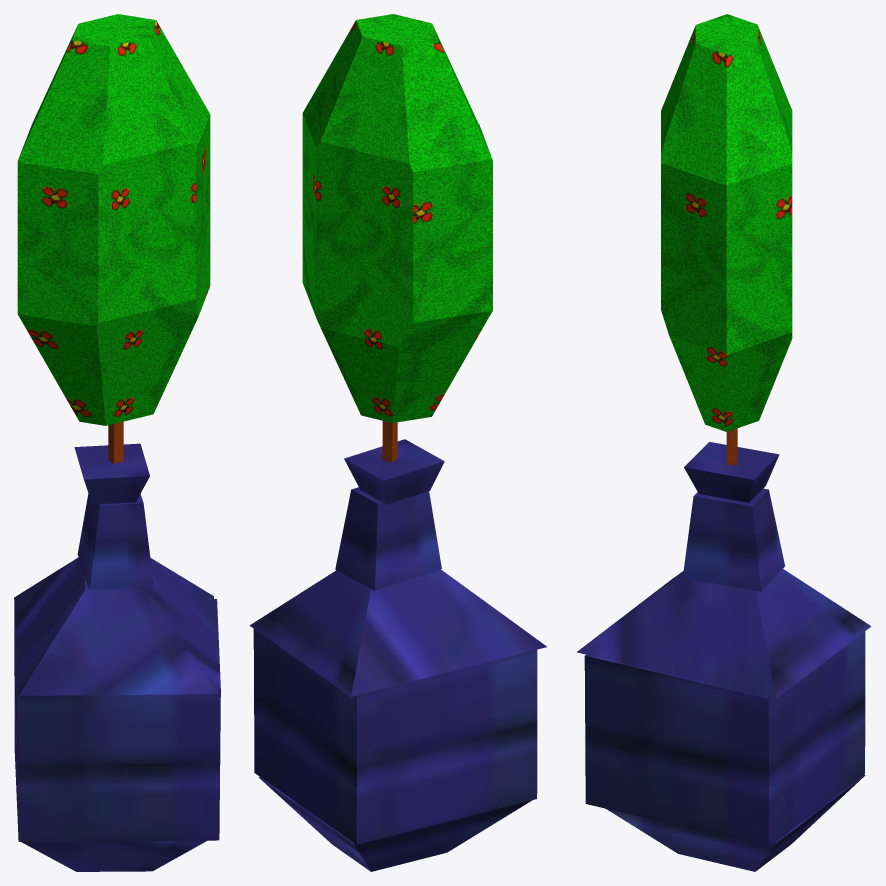
The model's file is Plant.glb.
3 renders of one model, left to right at view 1: azimuth 30°, elevation 25°; view 2: azimuth 150°, elevation 25°; view 3: azimuth 270°, elevation 25°, orthographic.
Visible parts, largest first — view 1: Plant; view 2: Plant; view 3: Plant.
Part boxes in pixels (x1=…): Plant: x1=14, y1=14, x2=220, y2=871; Plant: x1=249, y1=14, x2=546, y2=871; Plant: x1=577, y1=14, x2=871, y2=871.
Size of the model in its own units: 25.81 by 82 by 26.99.
Materials: 3 (3 with a texture image).
